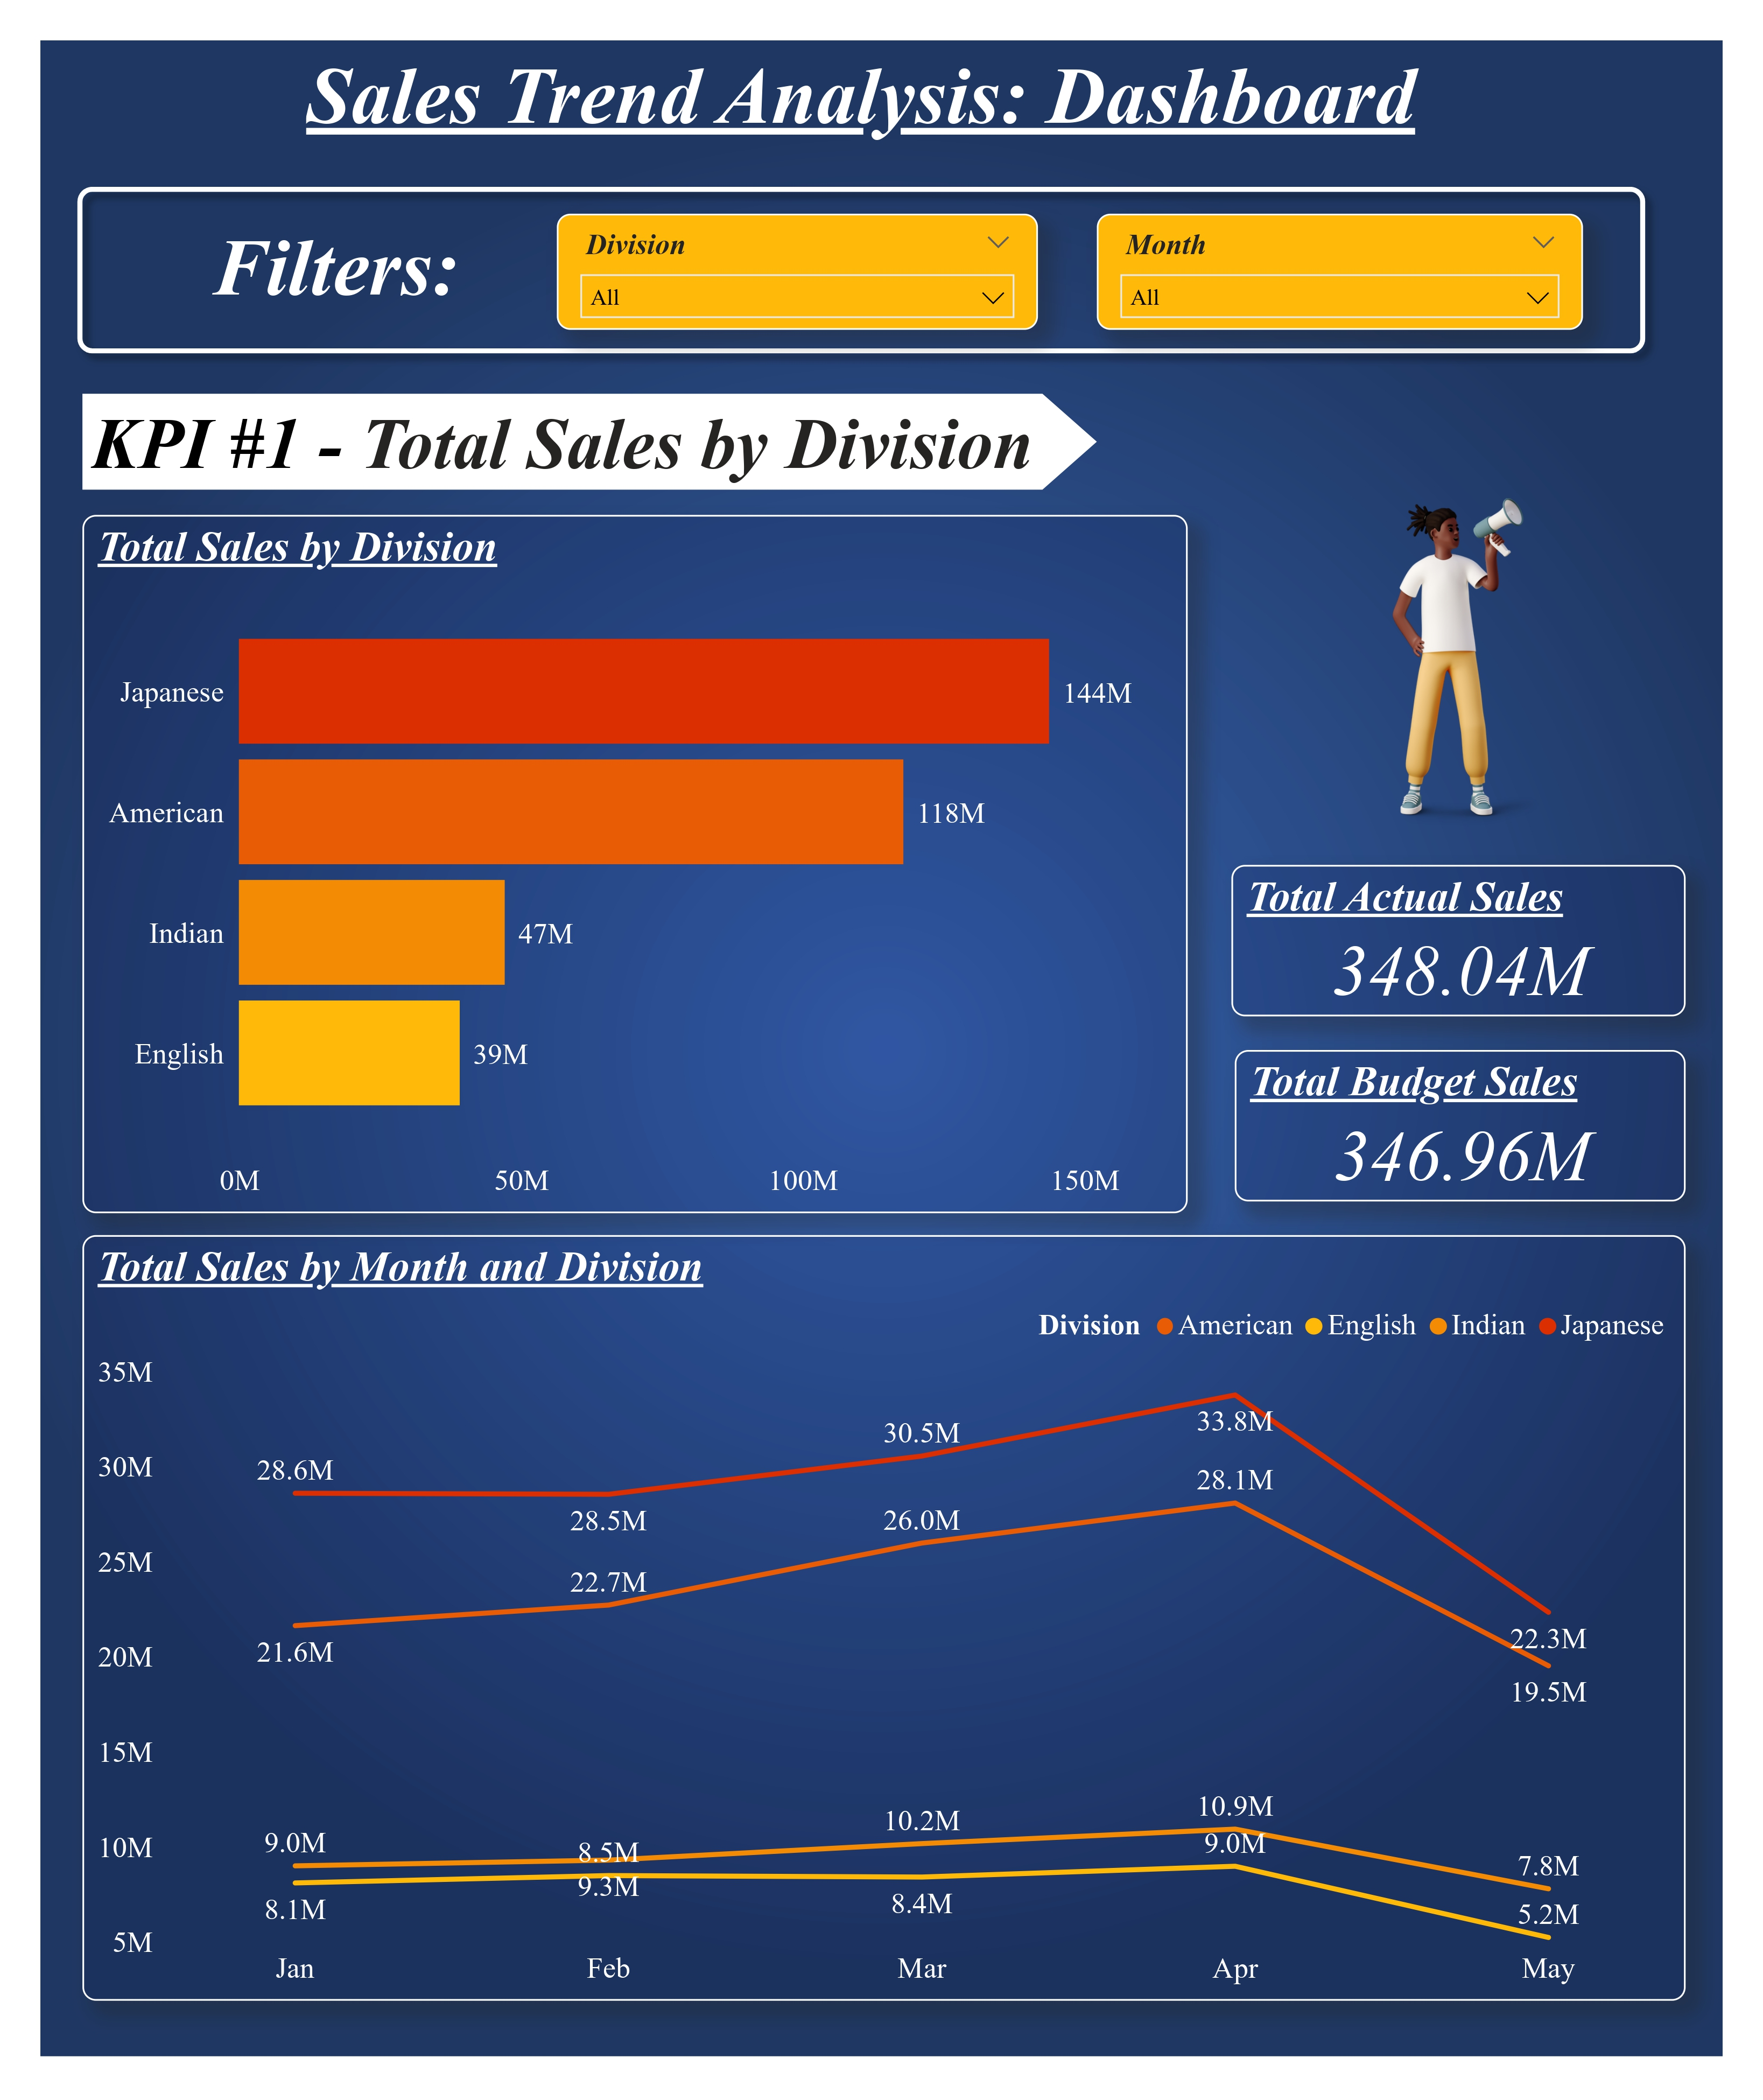

What the dashboard file says about the page in this screenshot:
{"tool":"powerbi","page":{"name":"Sales Trend","canvas":[1000,1200],"ordinal":1},"visuals":[{"type":"textbox","box":[153.5,0,726.4,103.8],"z":0},{"type":"shape","box":[13.3,78.3,950,116.7],"z":1000},{"type":"slicer","fields":{"Values":["Divisions.Division"]},"box":[306.7,103.3,286.7,68.3],"z":2000},{"type":"slicer","fields":{"Values":["Date_Table.Month_Name"]},"box":[628.3,103.3,288.3,68.3],"z":3000},{"type":"textbox","box":[96.7,101.7,170,73.3],"z":4000},{"type":"barChart","title":"Total Sales by Division","fields":{"Category":["Divisions.Division"],"Y":["Calculated_Measures.Total_Sales"]},"box":[25,281.7,656.7,415],"z":5000},{"type":"card","title":"Total Actual Sales","fields":{"Values":["Calculated_Measures.Total_Sales"]},"box":[708.3,490,270,90],"z":6000},{"type":"card","title":"Total Budget Sales","fields":{"Values":["Calculated_Measures.Total_Budget_Sales"]},"box":[710,600,268.3,90],"z":7000},{"type":"shape","box":[25,210,603.3,56.7],"z":8000},{"type":"lineChart","title":"Total Sales by Month and Division","fields":{"Y":["Calculated_Measures.Total_Sales"],"Category":["Date_Table.Month_Name"],"Series":["Divisions.Division"]},"box":[25,710,953.3,455],"z":9000},{"type":"textbox","box":[25,210,735,71.7],"z":10000},{"type":"image","box":[773.3,266.7,150,206.7],"z":11000}]}

Visuals, with their boxes in screenshot pixels (x1, y1, x2, y2):
textbox: left=299, top=40, right=1521, bottom=215
shape: left=63, top=172, right=1661, bottom=368
slicer - Divisions.Division: left=556, top=214, right=1038, bottom=329
slicer - Date_Table.Month_Name: left=1097, top=214, right=1582, bottom=329
textbox: left=203, top=212, right=489, bottom=335
"Total Sales by Division" barChart: left=82, top=514, right=1187, bottom=1213
"Total Actual Sales" card: left=1232, top=865, right=1686, bottom=1017
"Total Budget Sales" card: left=1235, top=1050, right=1686, bottom=1201
shape: left=82, top=394, right=1097, bottom=489
"Total Sales by Month and Division" lineChart: left=82, top=1235, right=1686, bottom=2001
textbox: left=82, top=394, right=1319, bottom=514
image: left=1341, top=489, right=1593, bottom=837
